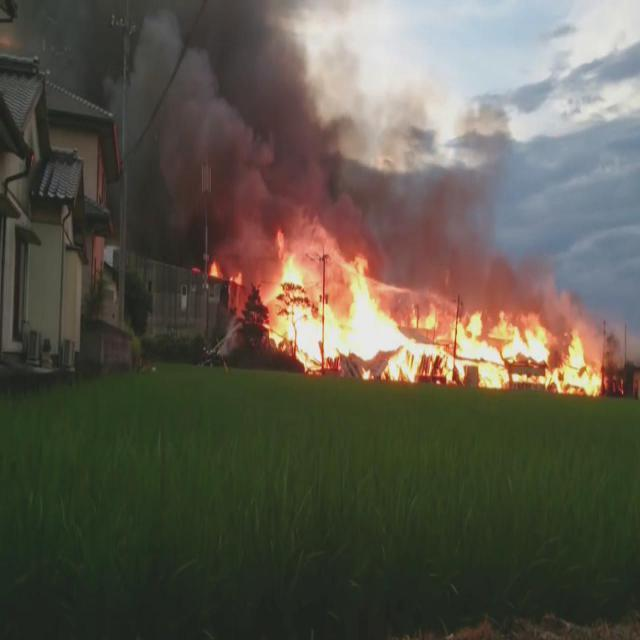Fire: (266, 232, 602, 395), (208, 260, 224, 282), (230, 270, 241, 286)
